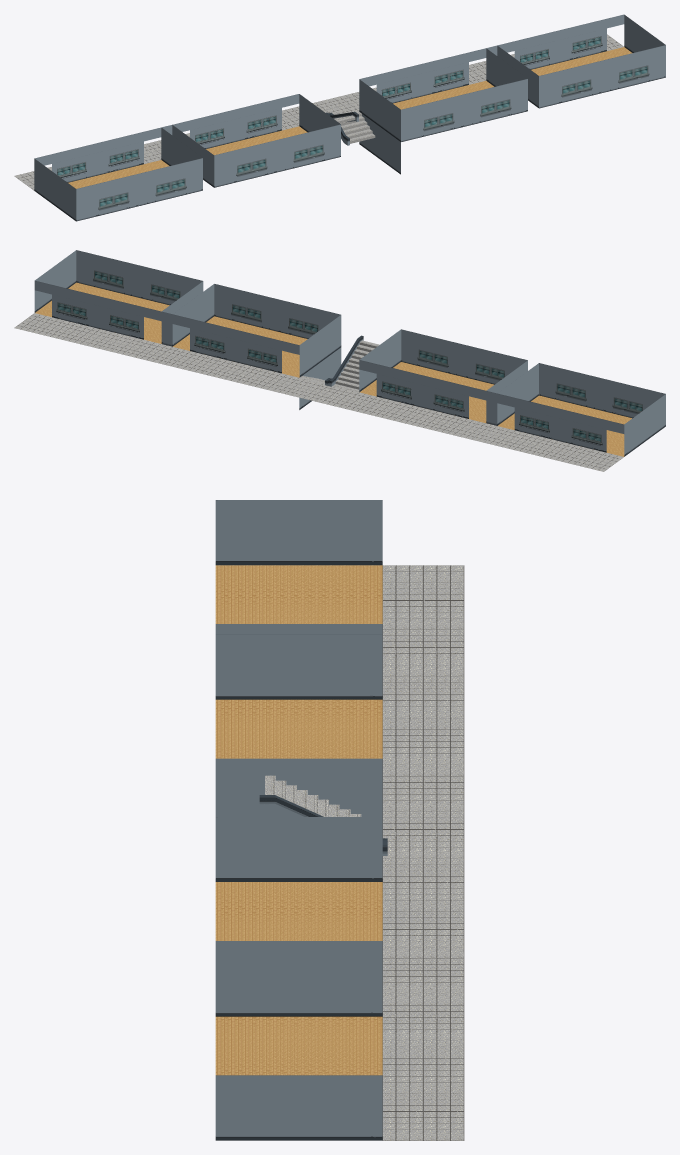
The model's file is 3ST_School.fbx.
The picture shows the model from 3 angles, top to bottom: view 1: azimuth 30°, elevation 25°; view 2: azimuth 150°, elevation 25°; view 3: azimuth 270°, elevation 25°; orthographic projection. The views are drawn at different scales.
Parts seen in each view (by area): view 1: School_WallV4__1_.001, School_WallV4__1_.004, School_WallV4__1_, School_WallV4__1_.003, School_Corridor_1, TransparencyWall1__1__1, TransparencyWall1__1__1.001, TransparencyWall1__1__1.003, TransparencyWall1__1__1.004, School_WallV2_1.005, School_WallV2_1.010, School_WallV2_1.008 (+23 smaller); view 2: School_Corridor_1, School_WallV4__1_, School_WallV4__1_.001, School_WallV4__1_.003, School_WallV4__1_.004, TransparencyWall1__1__1.004, TransparencyWall1__1__1.003, TransparencyWall1__1__1.001, TransparencyWall1__1__1, School_Floor_3.004, School_WallV2_1.010, School_Floor_3.001 (+22 smaller); view 3: School_Corridor_1, School_WallV2_1, School_WallV2_1.001, School_WallV2_1.005, School_WallV2_1.012, School_WallV2_1.010, School_Floor_3.003, School_Floor_3, School_Floor_3.001, School_Floor_3.004, School_WallV2_1.011, School_WallV2_1.004 (+3 smaller).
Boxes of the visible parts, box(x1,y1,x2,y2) form: School_WallV4__1_.001: box(401, 79, 527, 141); School_WallV4__1_.004: box(76, 158, 202, 221); School_WallV4__1_: box(539, 45, 665, 108); School_WallV4__1_.003: box(214, 124, 340, 187); School_Corridor_1: box(14, 34, 623, 190); TransparencyWall1__1__1: box(497, 14, 624, 64); TransparencyWall1__1__1.001: box(359, 48, 486, 98); TransparencyWall1__1__1.003: box(173, 94, 299, 144); TransparencyWall1__1__1.004: box(35, 127, 161, 177); School_WallV2_1.005: box(34, 158, 76, 221); School_WallV2_1.010: box(359, 79, 400, 141); School_WallV2_1.008: box(359, 114, 400, 174); School_Corridor_1: box(14, 313, 623, 471); School_WallV4__1_: box(76, 250, 202, 305); School_WallV4__1_.001: box(214, 284, 340, 338); School_WallV4__1_.003: box(401, 329, 527, 384); School_WallV4__1_.004: box(539, 363, 665, 418); TransparencyWall1__1__1.004: box(497, 393, 624, 452); TransparencyWall1__1__1.003: box(359, 360, 486, 418); TransparencyWall1__1__1.001: box(172, 314, 299, 373); TransparencyWall1__1__1: box(34, 280, 161, 339); School_Floor_3.004: box(498, 395, 631, 456); School_WallV2_1.010: box(299, 315, 341, 377); School_Floor_3.001: box(173, 316, 307, 377); School_Corridor_1: box(382, 565, 464, 1140); School_WallV2_1: box(215, 1075, 382, 1140); School_WallV2_1.001: box(215, 951, 382, 1016); School_WallV2_1.005: box(215, 500, 382, 565); School_WallV2_1.012: box(215, 634, 382, 699); School_WallV2_1.010: box(215, 817, 382, 881); School_Floor_3.003: box(215, 699, 382, 758); School_Floor_3: box(215, 1016, 382, 1075); School_Floor_3.001: box(215, 882, 382, 940); School_Floor_3.004: box(215, 565, 382, 623); School_WallV2_1.011: box(215, 758, 382, 816); School_WallV2_1.004: box(215, 624, 382, 634).
Bounding box in the file's own units: 9765 × 1030 × 1783.
